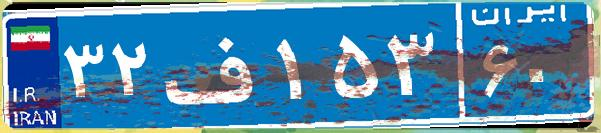0: (525, 38, 570, 115)
1: (273, 28, 330, 110)
2: (110, 28, 158, 105)
3: (385, 28, 445, 110), (57, 26, 110, 107)
5: (330, 28, 385, 110)
6: (475, 38, 525, 113)
ف: (158, 15, 273, 115)
